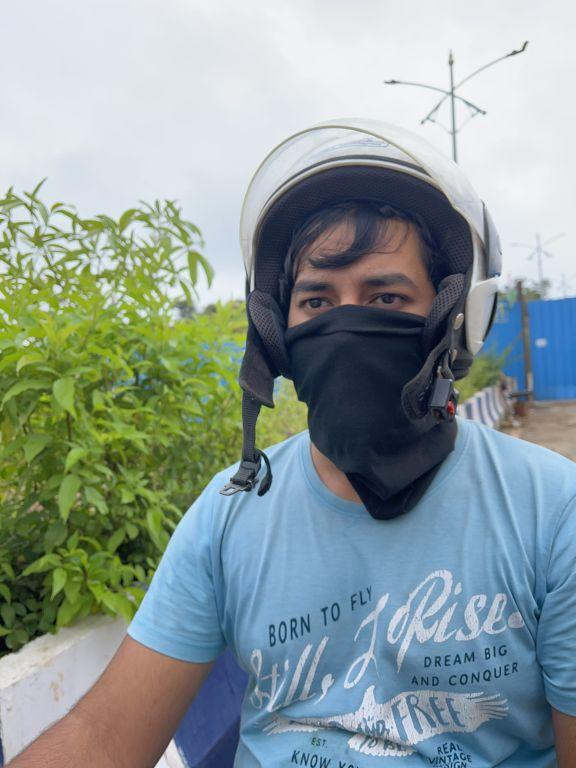helmet: (204, 114, 513, 455)
